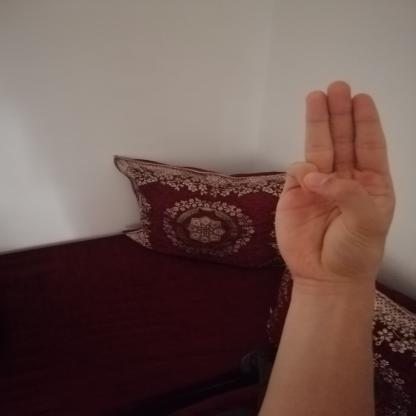THA: (258, 70, 408, 292)
